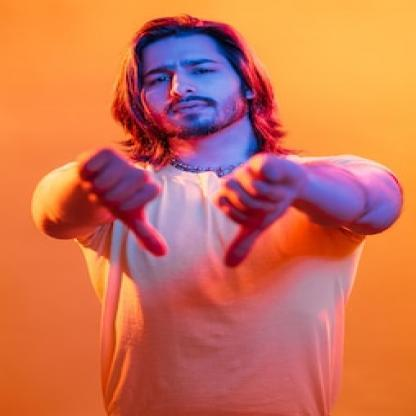thumb_down: (72, 141, 172, 261), (206, 148, 300, 274)
